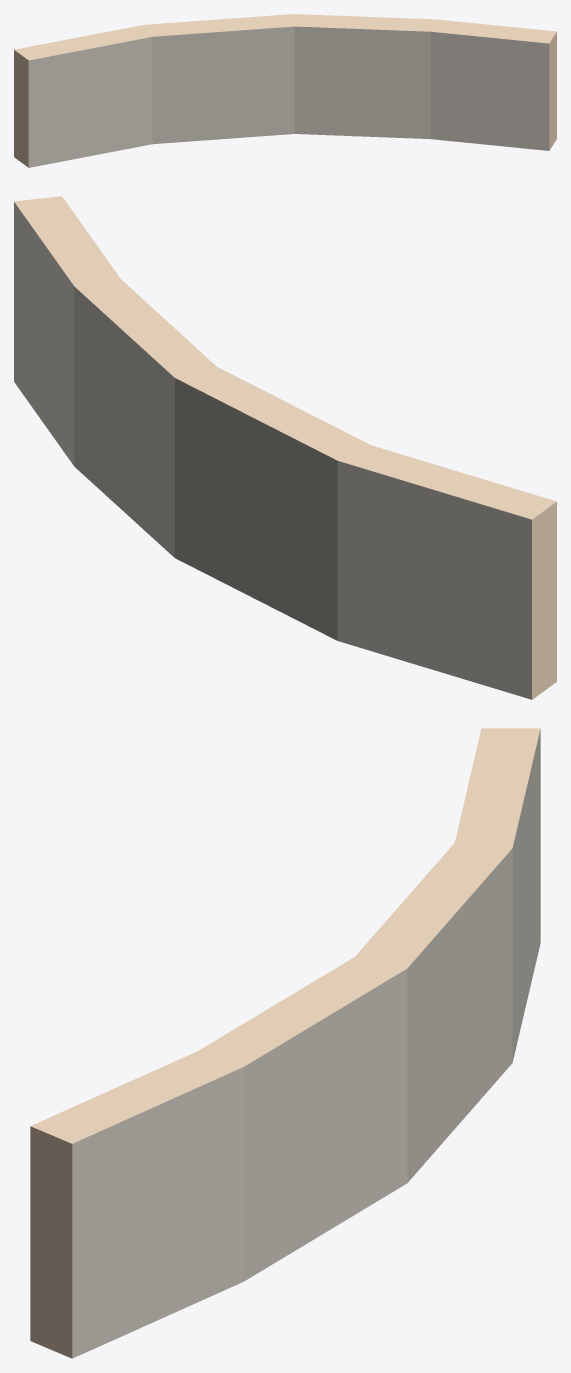
Rendered from Tiered_Retaining_Wall_45_Degrees_Curve_Outer_3x4_Mid.glb.
3 renders of one model, top to bottom at view 1: azimuth 30°, elevation 25°; view 2: azimuth 150°, elevation 25°; view 3: azimuth 270°, elevation 25°, orthographic. The views are drawn at different scales.
Visible parts, largest first — view 1: Tiered_Retaining_Wall_45_Degrees_Curve_Outer_3x4_Mid; view 2: Tiered_Retaining_Wall_45_Degrees_Curve_Outer_3x4_Mid; view 3: Tiered_Retaining_Wall_45_Degrees_Curve_Outer_3x4_Mid.
Boxes of the visible parts, x1,y1,x2,y2 form: Tiered_Retaining_Wall_45_Degrees_Curve_Outer_3x4_Mid: [14, 14, 556, 167]; Tiered_Retaining_Wall_45_Degrees_Curve_Outer_3x4_Mid: [14, 196, 556, 699]; Tiered_Retaining_Wall_45_Degrees_Curve_Outer_3x4_Mid: [30, 728, 540, 1358].
Bounding box in the file's own units: 415 × 100 × 215.
